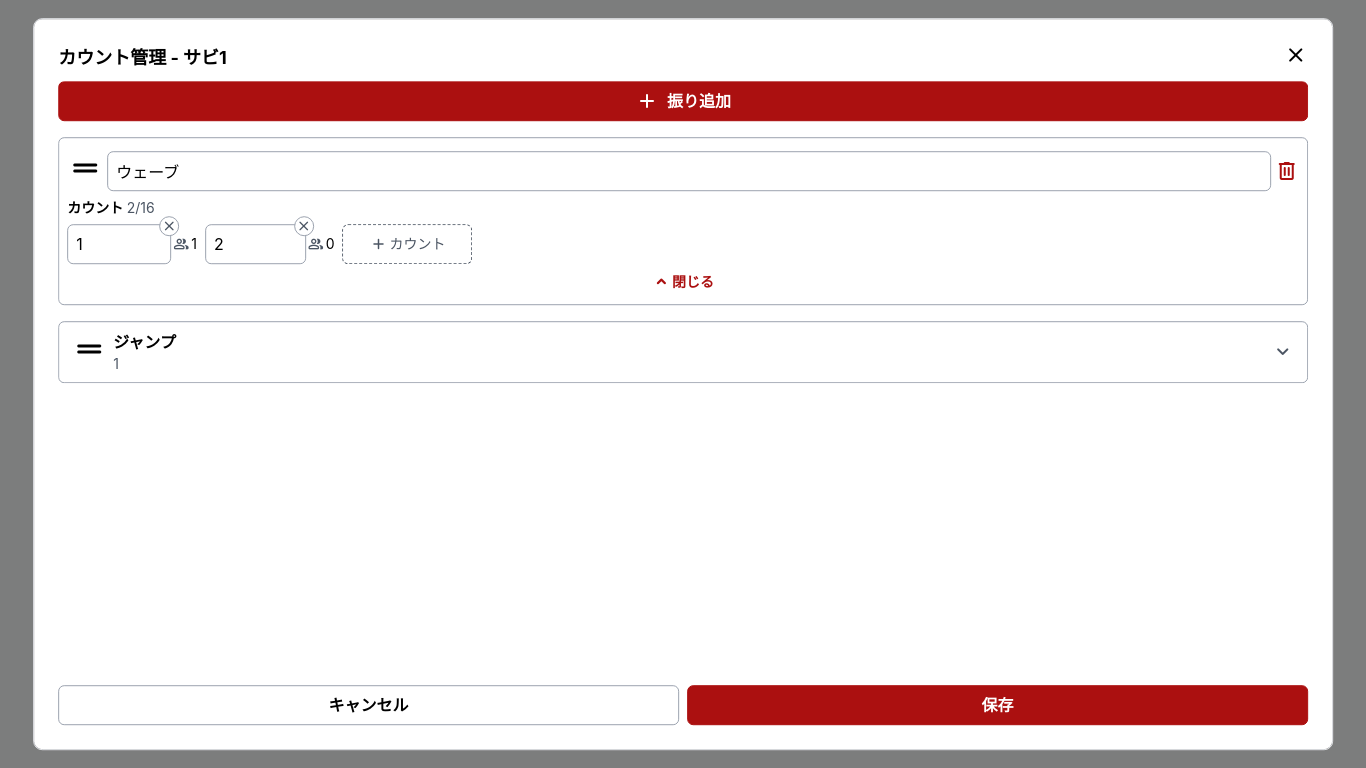
it: ActionManagerDialog count patterns › パターンを選び直す goes straight back to the patterns, even after edits
Click the button "振り追加" at (683, 101), box [58, 81, 1308, 121]
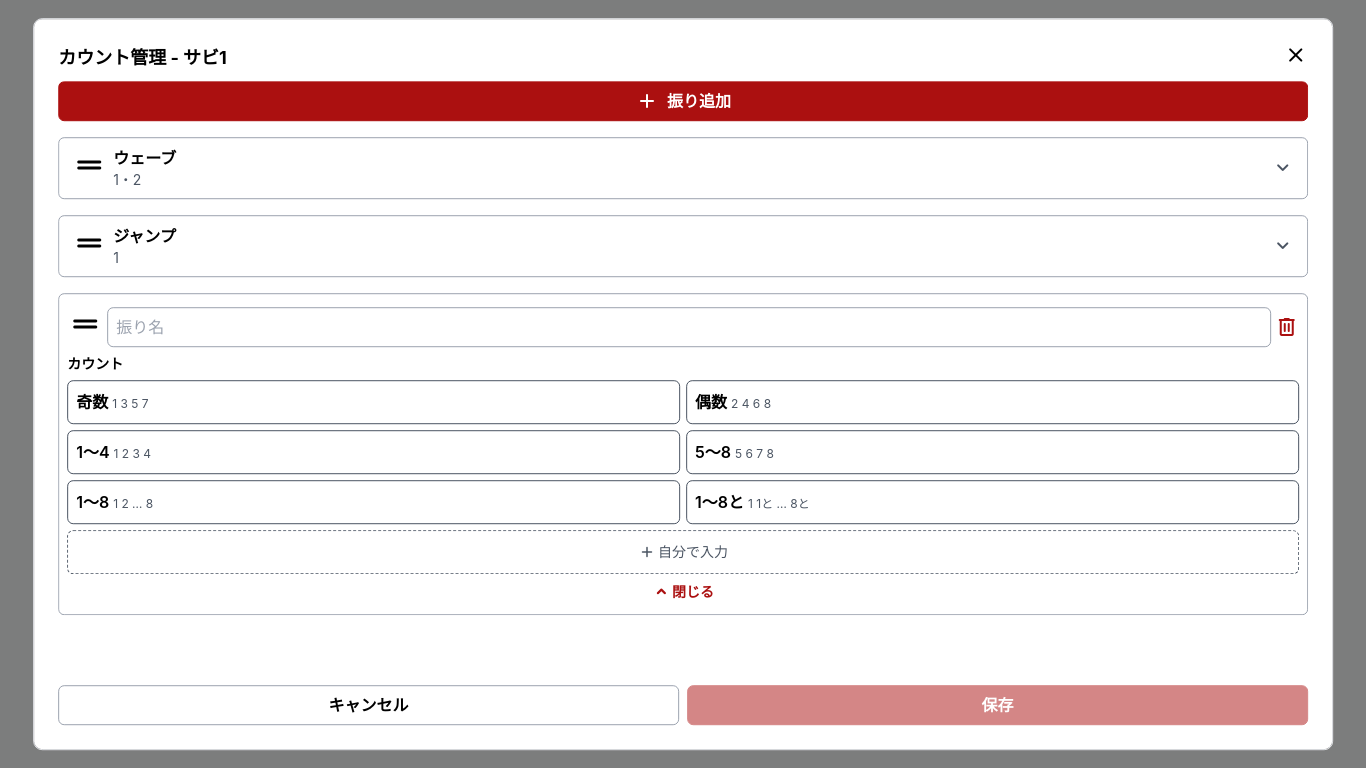
Click the button with aria-label "奇数:" at (92, 402), box [67, 380, 680, 424]
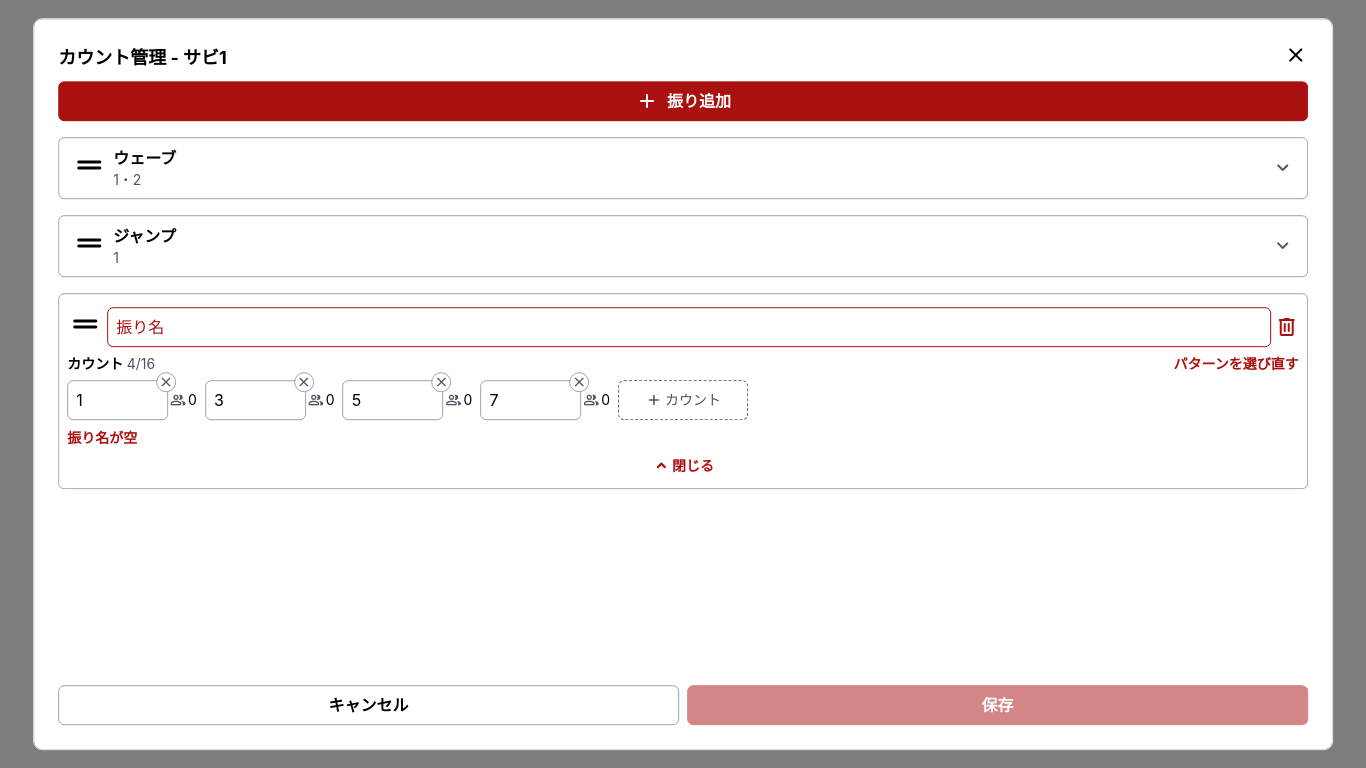
Replace the text in the 4th field showing "7" with "8" at (531, 400), box [480, 380, 581, 420]
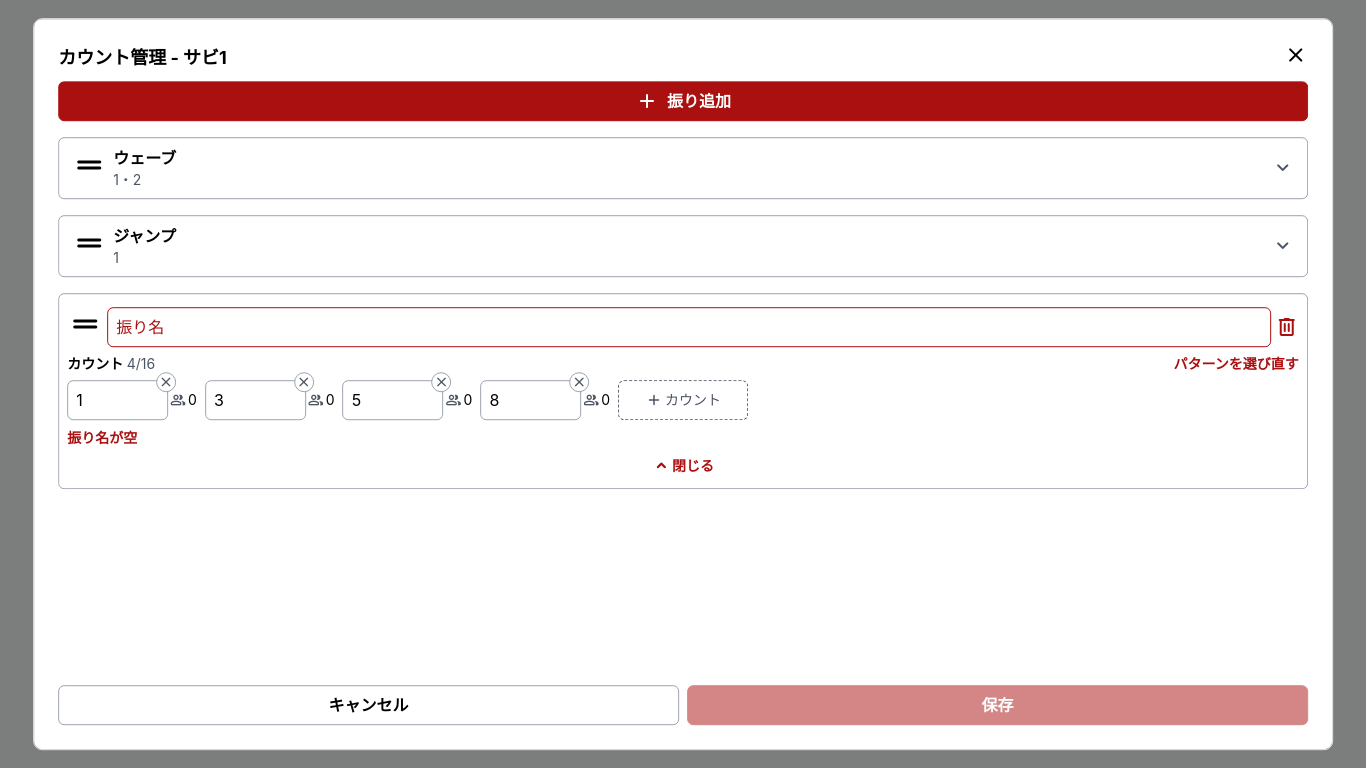
Click the button "パターンを選び直す" at (1236, 364), box [1174, 354, 1299, 374]
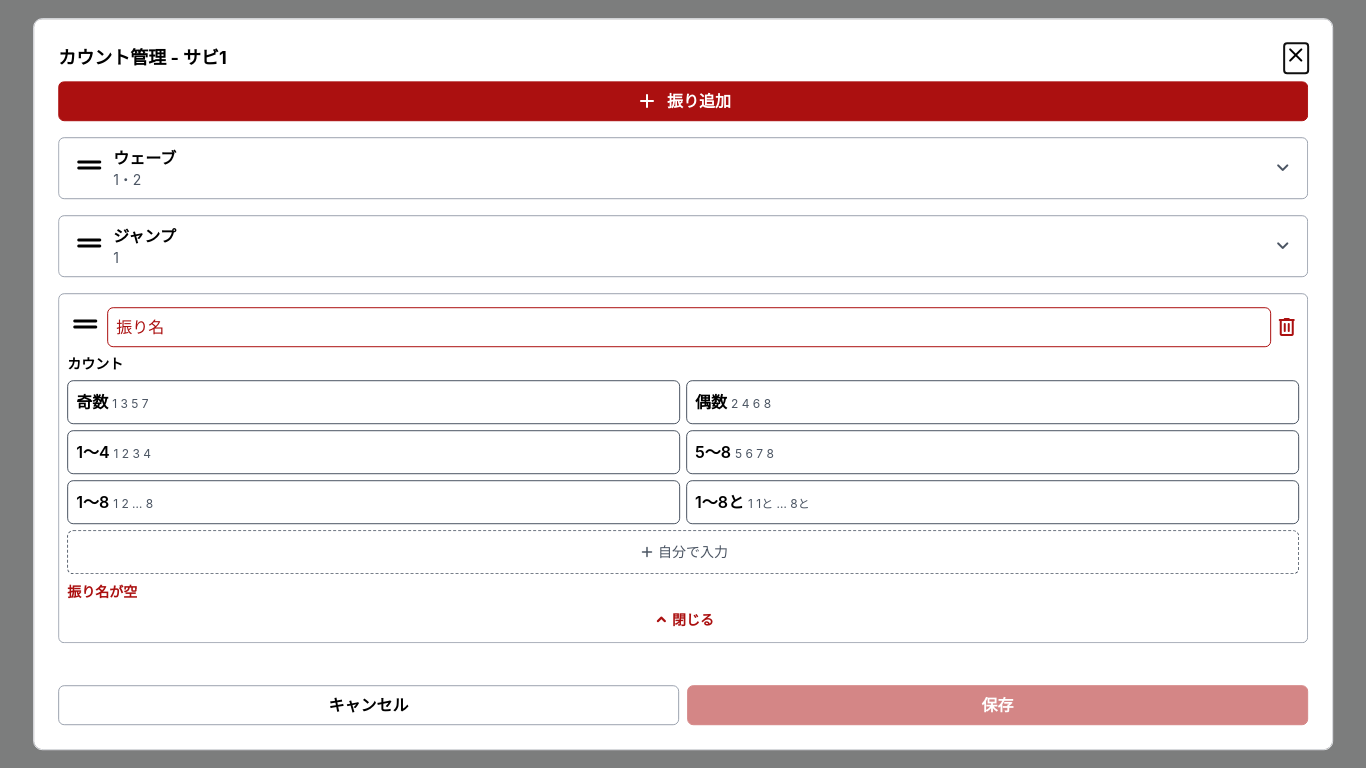
Expected: the button with aria-label "偶数:" is shown, [686, 380, 1299, 424]
